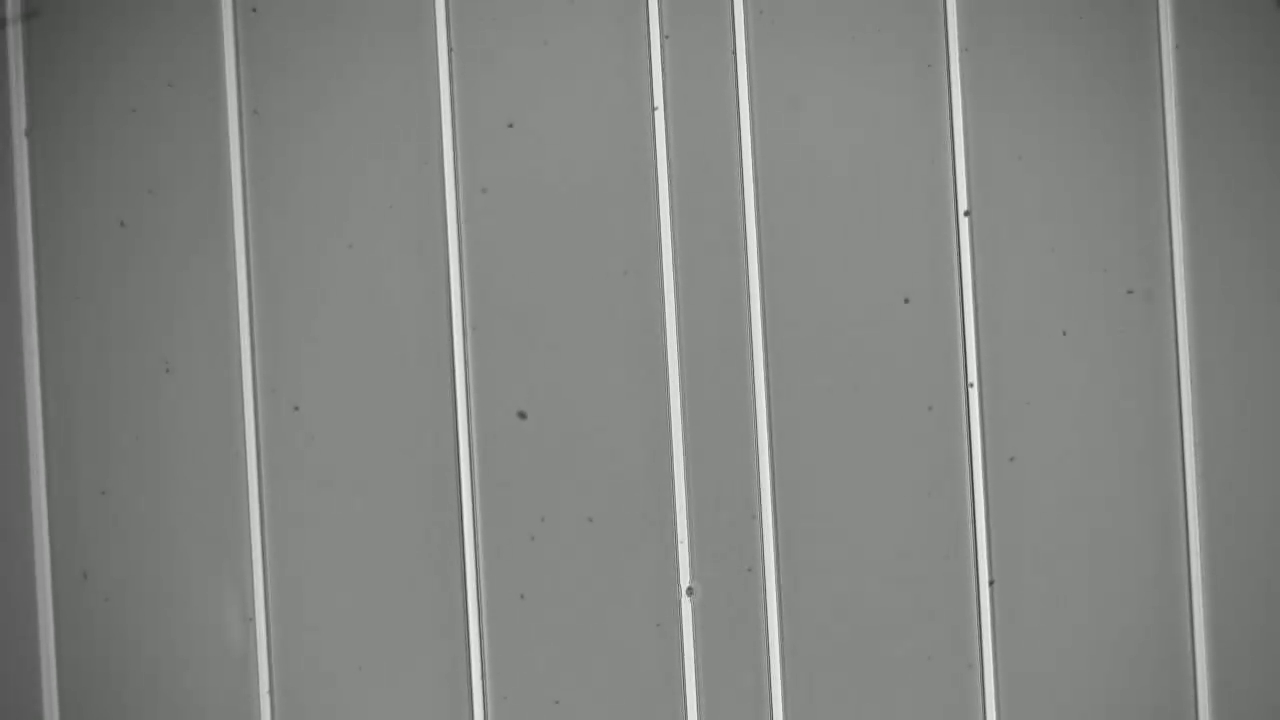stains_enbedded: (673, 577, 702, 604)
